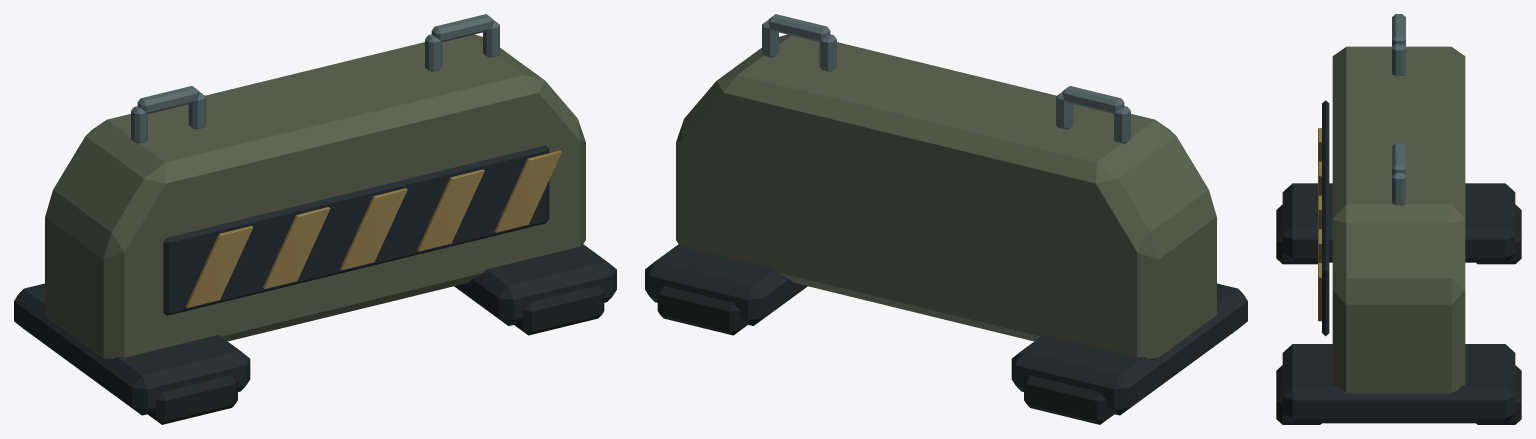
The model's file is ROAD_BLOCK.lo.glb.
The picture shows the model from 3 angles, left to right: view 1: azimuth 30°, elevation 25°; view 2: azimuth 150°, elevation 25°; view 3: azimuth 270°, elevation 25°; orthographic projection. The views are drawn at different scales.
Parts seen in each view (by area): view 1: Body_Mesh; view 2: Body_Mesh; view 3: Body_Mesh.
Boxes of the visible parts, bbox=[...] form: Body_Mesh: bbox=[14, 14, 616, 424]; Body_Mesh: bbox=[645, 14, 1247, 424]; Body_Mesh: bbox=[1276, 14, 1521, 424].
Size of the model in its own units: 2.01 by 1.06 by 0.98.
